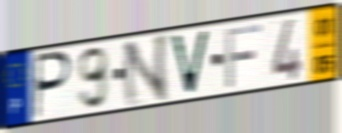4: (270, 16, 304, 83)
9: (75, 44, 111, 112)
F: (224, 21, 264, 90)
N: (120, 31, 170, 109)
P: (32, 49, 75, 122)
V: (168, 28, 212, 98)
